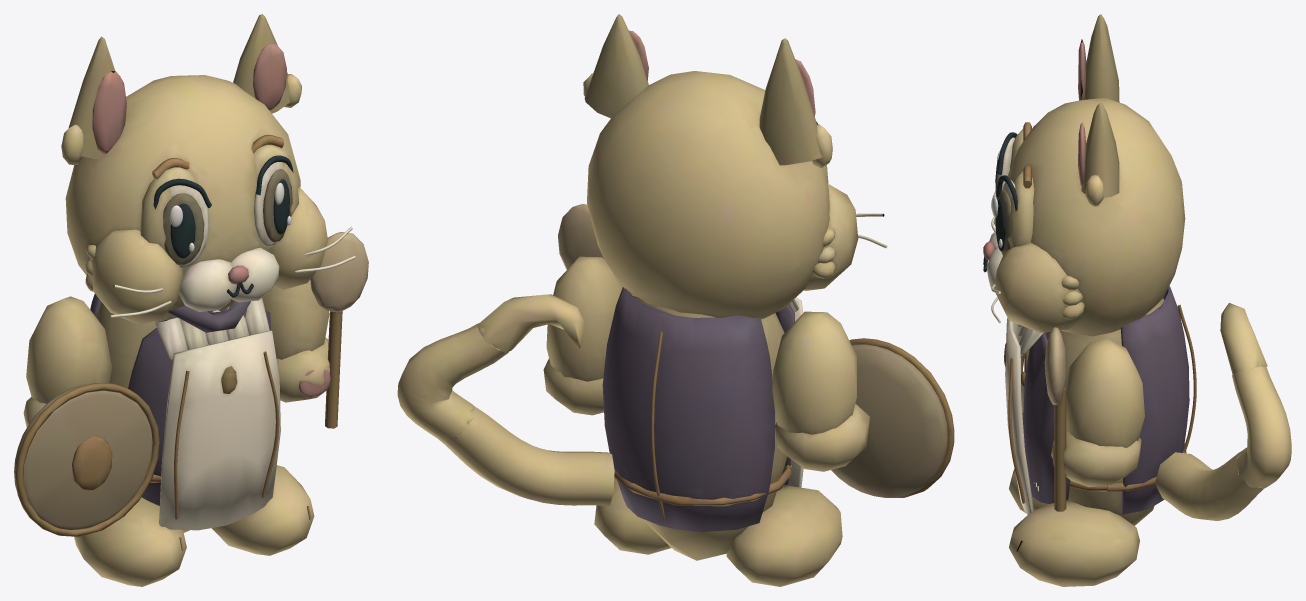
Rendered from brioche.glb.
3 renders of one model, left to right at view 1: azimuth 30°, elevation 25°; view 2: azimuth 150°, elevation 25°; view 3: azimuth 270°, elevation 25°, orthographic. The views are drawn at different scales.
Visible parts, largest first — view 1: cheek-head, pear-body, ceramic-serving-shield, arm, porcelain-eye, hind-paw, arm.001, rounded-ear-L, serving-spoon-handle, hind-paw.001, rounded-ear-R, nose; view 2: cheek-head, pear-body, ceramic-serving-shield, arm, tail-root, hind-paw, arm.001, tail-mid, rounded-ear-L, rounded-ear-R, tail-tip, hind-paw.001 (+1 smaller); view 3: cheek-head, pear-body, arm.001, hind-paw.001, tail-mid, tail-root, rounded-ear-R, serving-spoon-handle, rounded-ear-L, tail-tip, porcelain-eye.
Boxes of the visible parts, x1=… form: cheek-head: x1=65, y1=75, x2=355, y2=324; pear-body: x1=90, y1=294, x2=280, y2=532; ceramic-serving-shield: x1=14, y1=383, x2=159, y2=536; arm: x1=23, y1=296, x2=112, y2=427; porcelain-eye: x1=153, y1=155, x2=293, y2=268; hind-paw: x1=74, y1=497, x2=186, y2=586; arm.001: x1=262, y1=280, x2=331, y2=402; rounded-ear-L: x1=61, y1=36, x2=126, y2=164; serving-spoon-handle: x1=310, y1=232, x2=368, y2=428; hind-paw.001: x1=211, y1=465, x2=314, y2=555; rounded-ear-R: x1=233, y1=14, x2=301, y2=113; nose: x1=227, y1=265, x2=253, y2=297; cheek-head: x1=587, y1=71, x2=887, y2=318; pear-body: x1=602, y1=287, x2=803, y2=560; ceramic-serving-shield: x1=831, y1=338, x2=954, y2=497; arm: x1=772, y1=311, x2=869, y2=471; tail-root: x1=437, y1=405, x2=614, y2=505; hind-paw: x1=726, y1=486, x2=842, y2=586; arm.001: x1=543, y1=256, x2=622, y2=415; tail-mid: x1=397, y1=323, x2=508, y2=440; rounded-ear-L: x1=759, y1=38, x2=832, y2=168; rounded-ear-R: x1=583, y1=14, x2=648, y2=118; tail-tip: x1=476, y1=294, x2=585, y2=352; hind-paw.001: x1=594, y1=478, x2=671, y2=554; cheek-head: x1=986, y1=98, x2=1185, y2=336; pear-body: x1=1004, y1=286, x2=1196, y2=525; arm.001: x1=1051, y1=338, x2=1144, y2=487; hind-paw.001: x1=1009, y1=502, x2=1139, y2=586; tail-mid: x1=1232, y1=366, x2=1291, y2=488; tail-root: x1=1155, y1=449, x2=1264, y2=520; rounded-ear-R: x1=1078, y1=103, x2=1119, y2=206; serving-spoon-handle: x1=1044, y1=327, x2=1066, y2=511; rounded-ear-L: x1=1078, y1=14, x2=1119, y2=102; tail-tip: x1=1220, y1=303, x2=1267, y2=374; porcelain-eye: x1=992, y1=132, x2=1017, y2=255.
Size of the model in its own units: 1.53 by 1.92 by 1.07.
1 material, 1 textured.
